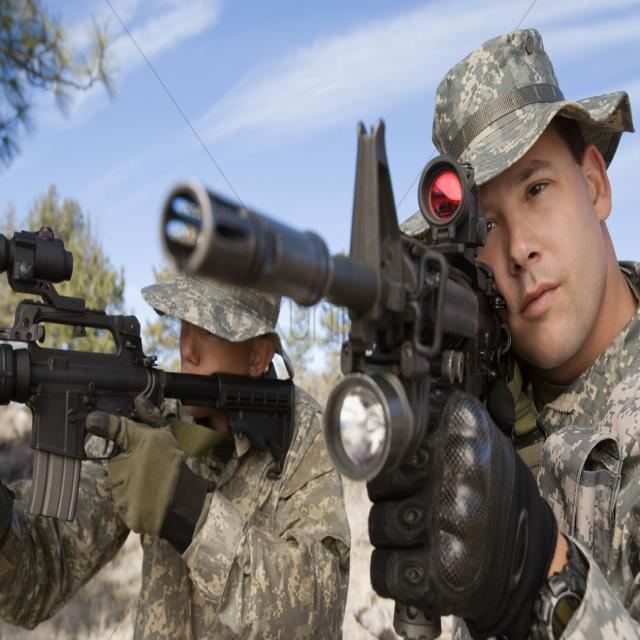soldier: (228, 22, 640, 640)
